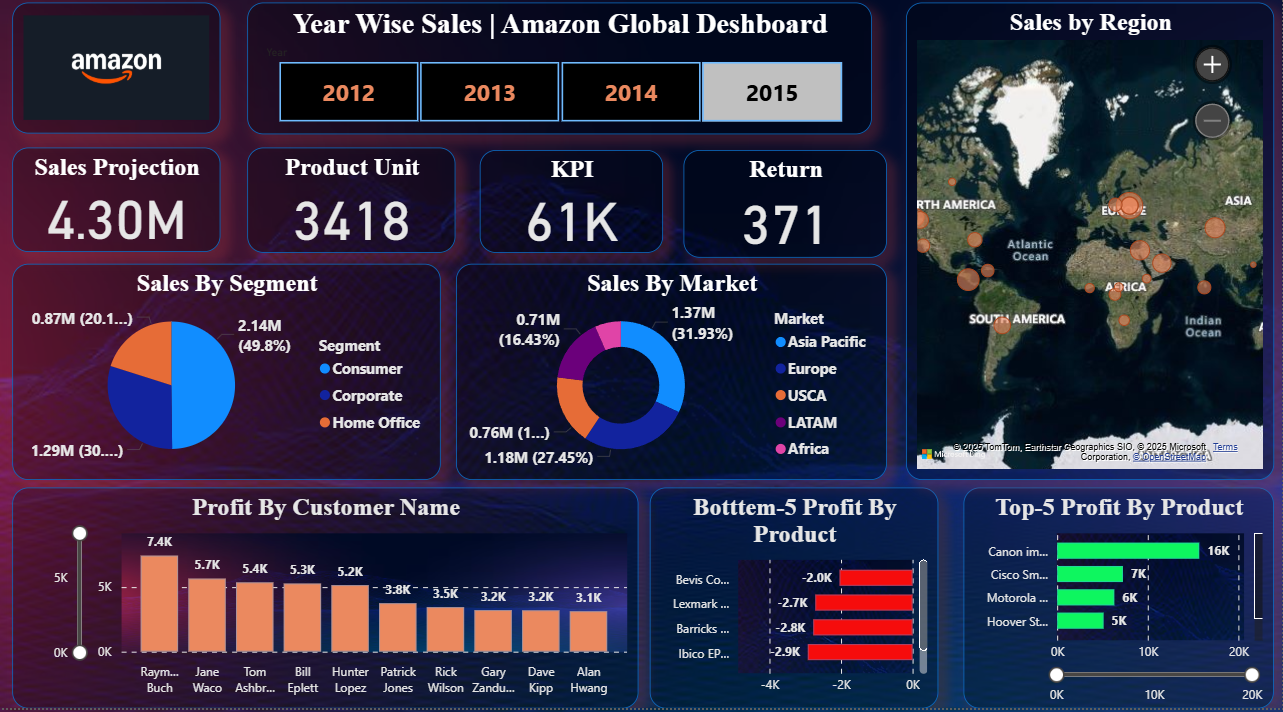

Layout of this report page (visuals, bound fields, positions):
{"tool":"powerbi","page":{"name":"Page 1","canvas":[1280,720],"ordinal":0},"visuals":[{"type":"slicer","title":"Year Wise Sales | Amazon Global Deshboard","fields":{"Values":["Orders.Year"]},"box":[250,17.1,621.4,131.4],"z":0},{"type":"card","title":"Sales Projection","fields":{"Values":["Orders.Sales"]},"box":[15.7,161.4,207.1,104.3],"z":1000},{"type":"image","box":[947.5,241.2,251.2,131.2],"z":2000},{"type":"card","title":"Product Unit ","fields":{"Values":["Orders.Product Name"]},"box":[250,161.2,207.5,105],"z":3000},{"type":"card","title":"KPI","fields":{"Values":["Orders.Quantity"]},"box":[481.2,163.8,182.5,102.5],"z":4000},{"type":"card","title":"Return","fields":{"Values":["Orders.Ship Date"]},"box":[683.8,163.8,202.5,107.5],"z":5000},{"type":"pieChart","title":"Sales By Segment","fields":{"Y":["Orders.Sales","Orders.Sales"],"Category":["Orders.Segment"]},"box":[16.2,277.5,426.2,215],"z":6000},{"type":"donutChart","title":"Sales By Market","fields":{"Y":["Orders.Sales","Orders.Sales"],"Category":["Orders.Market"]},"box":[457.5,277.5,428.8,215],"z":7000},{"type":"columnChart","title":"Profit By Customer Name","fields":{"Category":["Orders.Customer Name"],"Y":["Orders.Profit"]},"box":[16.2,500.1,623.2,220.2],"z":8000},{"type":"clusteredBarChart","title":"Top-5 Profit By Product","fields":{"Y":["Orders.Profit"],"Category":["Orders.Product Name"]},"box":[962.8,500.1,308.5,220.2],"z":9000},{"type":"clusteredBarChart","title":"Botttem-5 Profit By Product","fields":{"Y":["Orders.Profit"],"Category":["Orders.Product Name"]},"box":[650.6,500.1,287.4,220.2],"z":10000},{"type":"map","title":"Sales by Region","fields":{"Category":["Orders.Region"],"Size":["Orders.Sales"]},"box":[905,17.5,366.2,475],"z":11000},{"type":"image","box":[16.2,17.5,207.5,130],"z":12000}]}

Visuals, with their boxes in screenshot pixels (x1, y1, x2, y2), scaled from the page's 1280x720 canvas onto the 1283x712 screenshot:
"Year Wise Sales | Amazon Global Deshboard" slicer: rect(251, 17, 873, 147)
"Sales Projection" card: rect(16, 160, 223, 263)
image: rect(950, 239, 1202, 368)
"Product Unit " card: rect(251, 159, 459, 263)
"KPI" card: rect(482, 162, 665, 263)
"Return" card: rect(685, 162, 888, 268)
"Sales By Segment" pieChart: rect(16, 274, 443, 487)
"Sales By Market" donutChart: rect(459, 274, 888, 487)
"Profit By Customer Name" columnChart: rect(16, 495, 641, 711)
"Top-5 Profit By Product" clusteredBarChart: rect(965, 495, 1274, 711)
"Botttem-5 Profit By Product" clusteredBarChart: rect(652, 495, 940, 711)
"Sales by Region" map: rect(907, 17, 1274, 487)
image: rect(16, 17, 224, 146)
